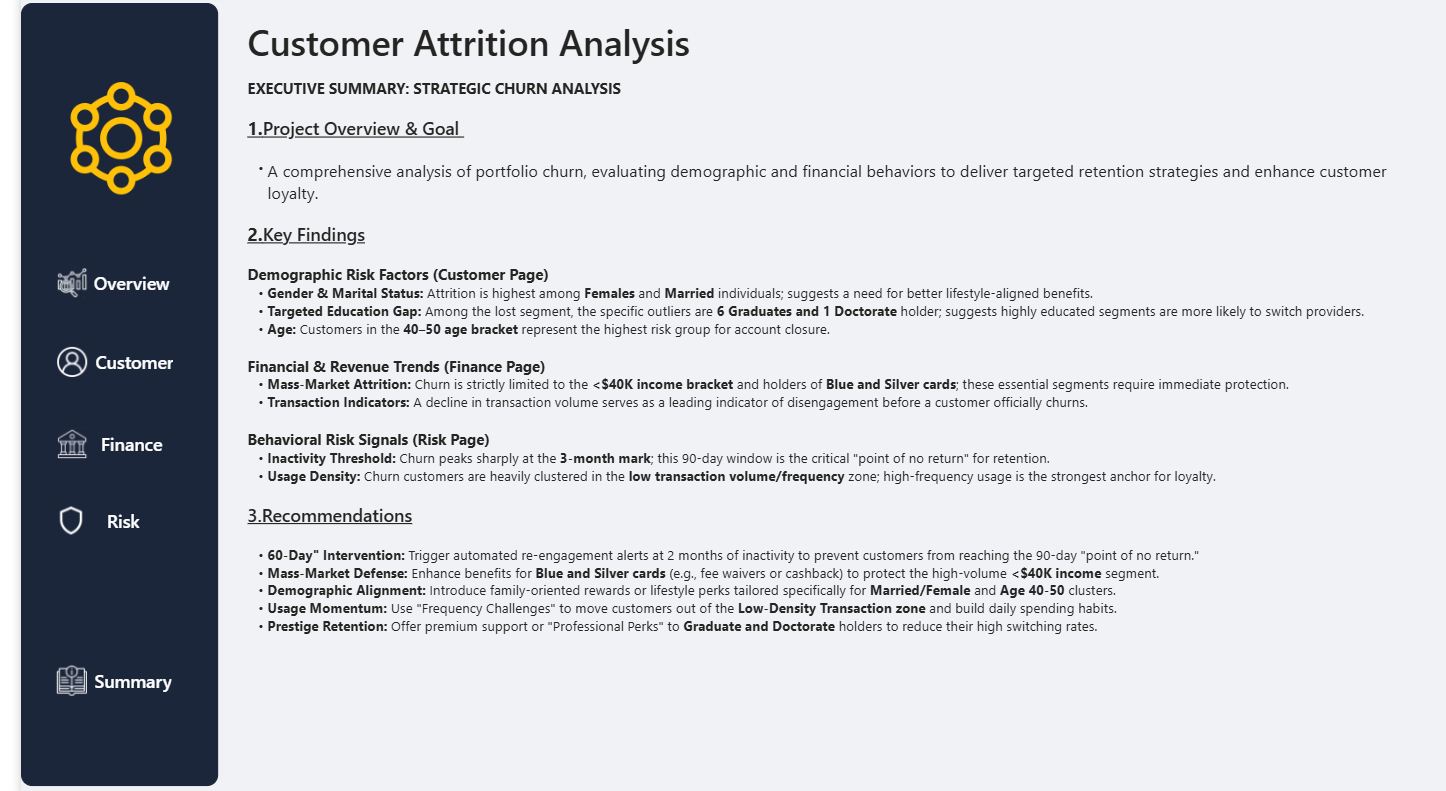

What the dashboard file says about the page in this screenshot:
{"tool":"powerbi","page":{"name":"Executive Summary","canvas":[1280,720],"ordinal":4},"visuals":[{"type":"textbox","box":[198.2,14.5,441.8,55.5],"z":0},{"type":"shape","box":[0,7,177,703],"z":1000},{"type":"image","box":[4.5,78.2,171.8,100.9],"z":2000},{"type":"actionButton","box":[22.4,237.9,132.9,40.4],"z":3000},{"type":"actionButton","box":[22.4,308.2,132.9,43.1],"z":4000},{"type":"actionButton","box":[22.4,454.3,132.9,34.1],"z":5000},{"type":"actionButton","box":[22.4,381.2,132.9,43.1],"z":6000},{"type":"textbox","box":[198.4,70,1062.9,527],"z":7000},{"type":"actionButton","box":[25,597,135,37],"z":8000}]}

Visuals, with their boxes on the page's 1280x720 design canvas (x1, y1, x2, y2). These are canvas units, not pixel positions in the 1446x791 screenshot, which may show the page scaled, cropped or inside an application window:
textbox: (x1=198, y1=14, x2=640, y2=70)
shape: (x1=0, y1=7, x2=177, y2=710)
image: (x1=4, y1=78, x2=176, y2=179)
actionButton: (x1=22, y1=238, x2=155, y2=278)
actionButton: (x1=22, y1=308, x2=155, y2=351)
actionButton: (x1=22, y1=454, x2=155, y2=488)
actionButton: (x1=22, y1=381, x2=155, y2=424)
textbox: (x1=198, y1=70, x2=1261, y2=597)
actionButton: (x1=25, y1=597, x2=160, y2=634)
